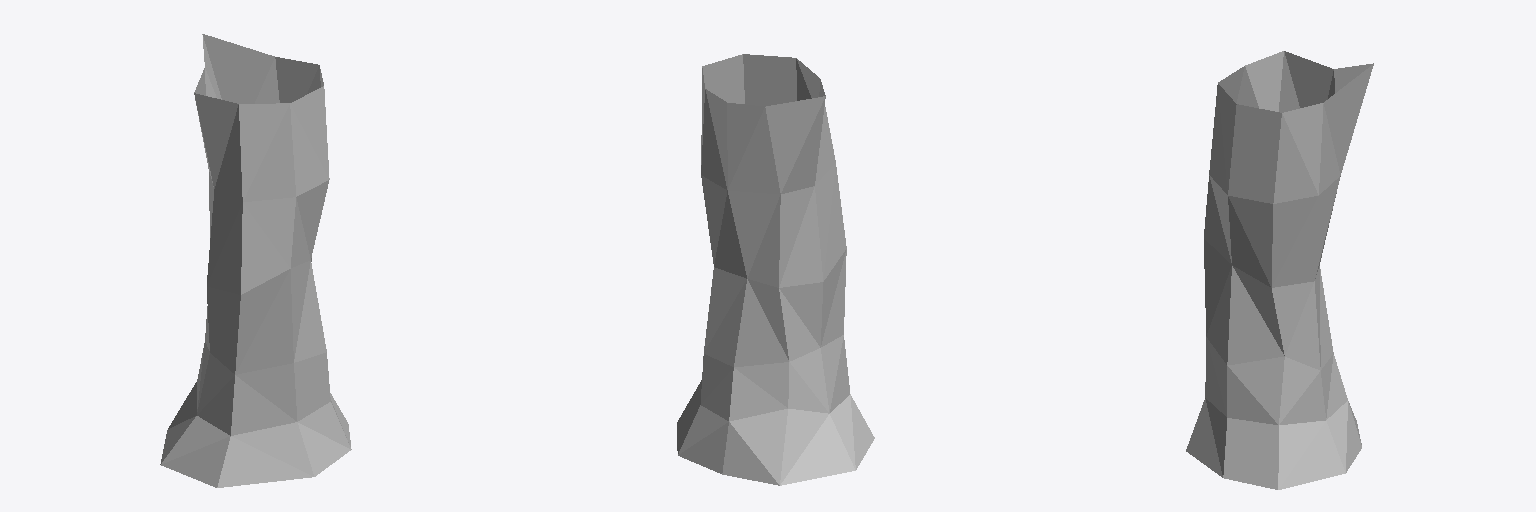
Rendered from treetrunk.obj.
The picture shows the model from 3 angles: view 1: azimuth 30°, elevation 25°; view 2: azimuth 150°, elevation 25°; view 3: azimuth 270°, elevation 25°; orthographic projection.
Bounding box in the file's own units: 0.7386 × 1.46 × 0.6568.